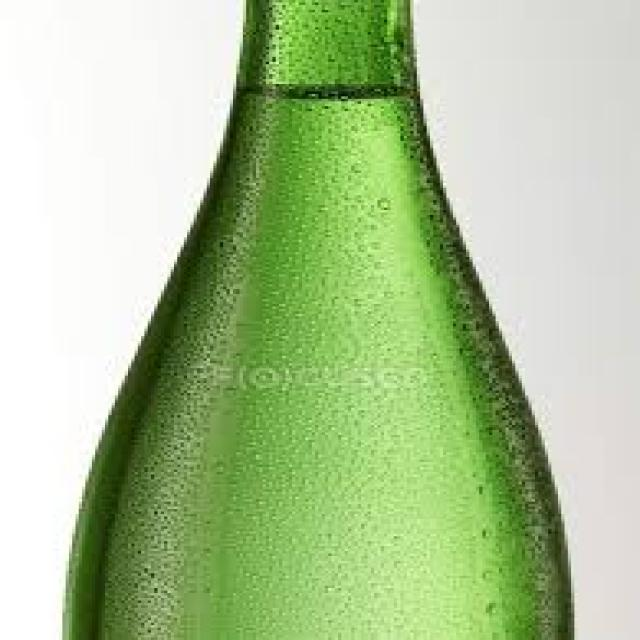glass: (59, 0, 571, 638)
